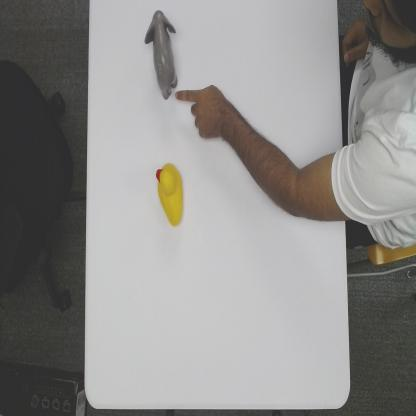Arm: (229, 101, 345, 220)
Duck: (155, 162, 186, 228)
Elephant: (143, 5, 179, 103)
Hand: (174, 81, 228, 140)
